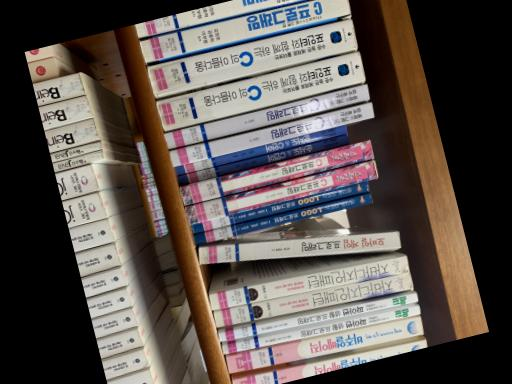book-spine: (145, 19, 356, 98), (155, 52, 364, 131), (138, 0, 349, 64), (163, 85, 369, 150), (169, 103, 373, 167), (179, 140, 372, 206), (183, 161, 377, 225), (224, 317, 422, 374), (208, 256, 408, 311), (212, 274, 412, 328), (217, 293, 417, 342), (220, 306, 420, 354), (192, 193, 371, 245), (190, 182, 368, 234), (176, 135, 347, 186), (231, 340, 426, 384), (175, 126, 346, 175), (197, 232, 400, 264), (134, 0, 296, 39)
